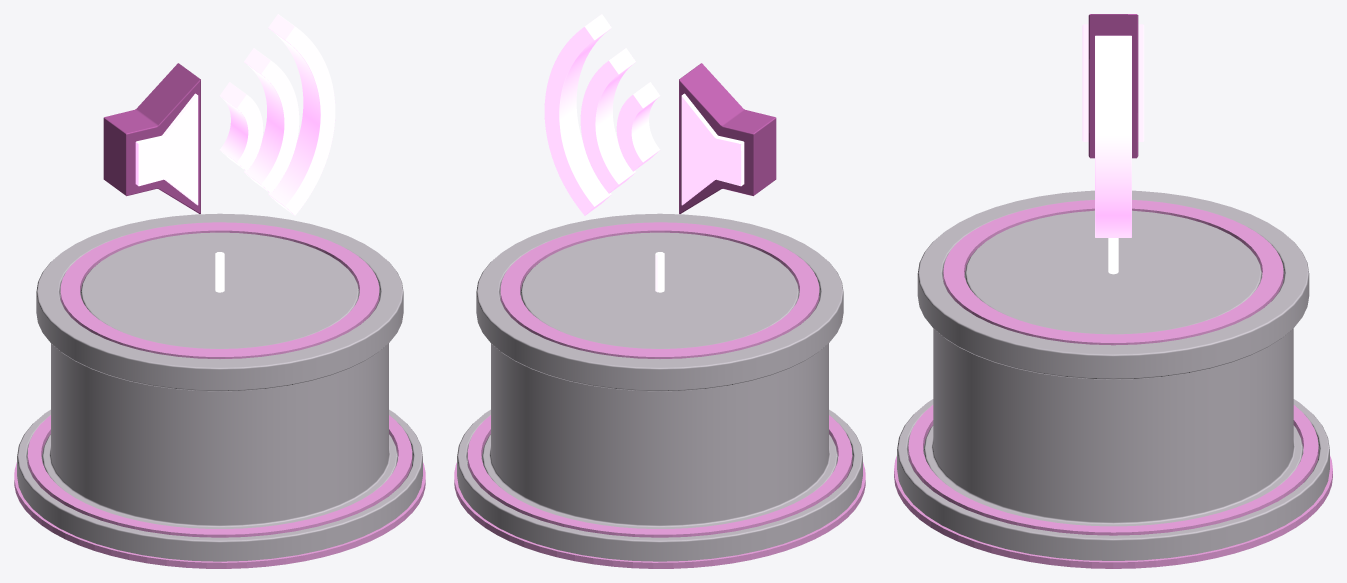
Rendered from Lobby_PED_Sound.fbx.
3 views of the same model, side by side, from view 1: azimuth 30°, elevation 25°; view 2: azimuth 150°, elevation 25°; view 3: azimuth 270°, elevation 25° (orthographic). The views are drawn at different scales.
Visible parts, largest first — view 1: PedestalMarble__Sound, PedNeon_Sound__Sound_TopNeon, Glyph_SoundWave__SoundWave_2, Glyph_SoundBody__SoundSpeaker, PedNeon_Sound__Sound_BaseNeon, Glyph_SoundWave__SoundWave_1, Glyph_SoundWave__SoundSpeakerFace, PedNeon_Sound__Sound_BaseNeonEdge, Glyph_SoundWave__SoundWave_0; view 2: PedestalMarble__Sound, PedNeon_Sound__Sound_TopNeon, Glyph_SoundWave__SoundWave_2, Glyph_SoundBody__SoundSpeaker, PedNeon_Sound__Sound_BaseNeon, Glyph_SoundWave__SoundWave_1, Glyph_SoundWave__SoundSpeakerFace, PedNeon_Sound__Sound_BaseNeonEdge, Glyph_SoundWave__SoundWave_0; view 3: PedestalMarble__Sound, PedNeon_Sound__Sound_TopNeon, Glyph_SoundWave__SoundWave_2, PedNeon_Sound__Sound_BaseNeon, PedNeon_Sound__Sound_BaseNeonEdge, Glyph_SoundBody__SoundSpeaker, Glyph_SoundWave__SoundSpeakerFace.
Part boxes in pixels (x1,y1,x2,y2): PedestalMarble__Sound: (17,213,422,561); PedNeon_Sound__Sound_TopNeon: (60,222,379,358); Glyph_SoundWave__SoundWave_2: (268,14,335,215); Glyph_SoundBody__SoundSpeaker: (103,63,200,213); PedNeon_Sound__Sound_BaseNeon: (27,415,412,537); Glyph_SoundWave__SoundWave_1: (244,48,299,193); Glyph_SoundWave__SoundSpeakerFace: (135,93,198,205); PedNeon_Sound__Sound_BaseNeonEdge: (14,462,425,568); Glyph_SoundWave__SoundWave_0: (219,82,263,171); PedestalMarble__Sound: (457,213,862,561); PedNeon_Sound__Sound_TopNeon: (500,222,819,358); Glyph_SoundWave__SoundWave_2: (544,14,611,215); Glyph_SoundBody__SoundSpeaker: (679,63,776,213); PedNeon_Sound__Sound_BaseNeon: (467,415,852,537); Glyph_SoundWave__SoundWave_1: (580,48,635,193); Glyph_SoundWave__SoundSpeakerFace: (681,93,744,205); PedNeon_Sound__Sound_BaseNeonEdge: (454,462,865,568); Glyph_SoundWave__SoundWave_0: (616,82,660,171); PedestalMarble__Sound: (897,190,1329,560); PedNeon_Sound__Sound_TopNeon: (943,200,1283,345); Glyph_SoundWave__SoundWave_2: (1095,35,1131,237); PedNeon_Sound__Sound_BaseNeon: (908,405,1318,535); PedNeon_Sound__Sound_BaseNeonEdge: (894,456,1332,568); Glyph_SoundBody__SoundSpeaker: (1088,14,1138,158); Glyph_SoundWave__SoundSpeakerFace: (1082,24,1144,141).
Size of the model in its own units: 4.26 by 5.1 by 4.26.
